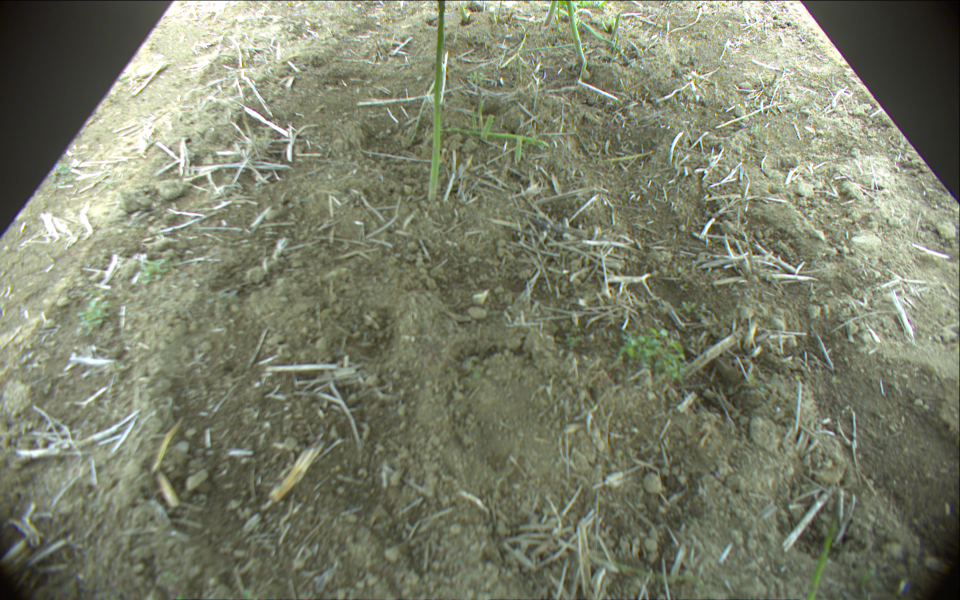aspa: (426, 1, 447, 201), (807, 512, 841, 600), (539, 1, 604, 43), (441, 126, 547, 147), (564, 1, 592, 69), (475, 81, 486, 126), (509, 139, 524, 169), (541, 1, 559, 26), (609, 13, 625, 39), (481, 115, 494, 144)
